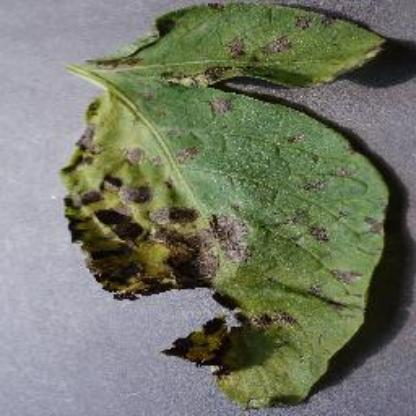Early-Blight: (63, 5, 403, 411)
